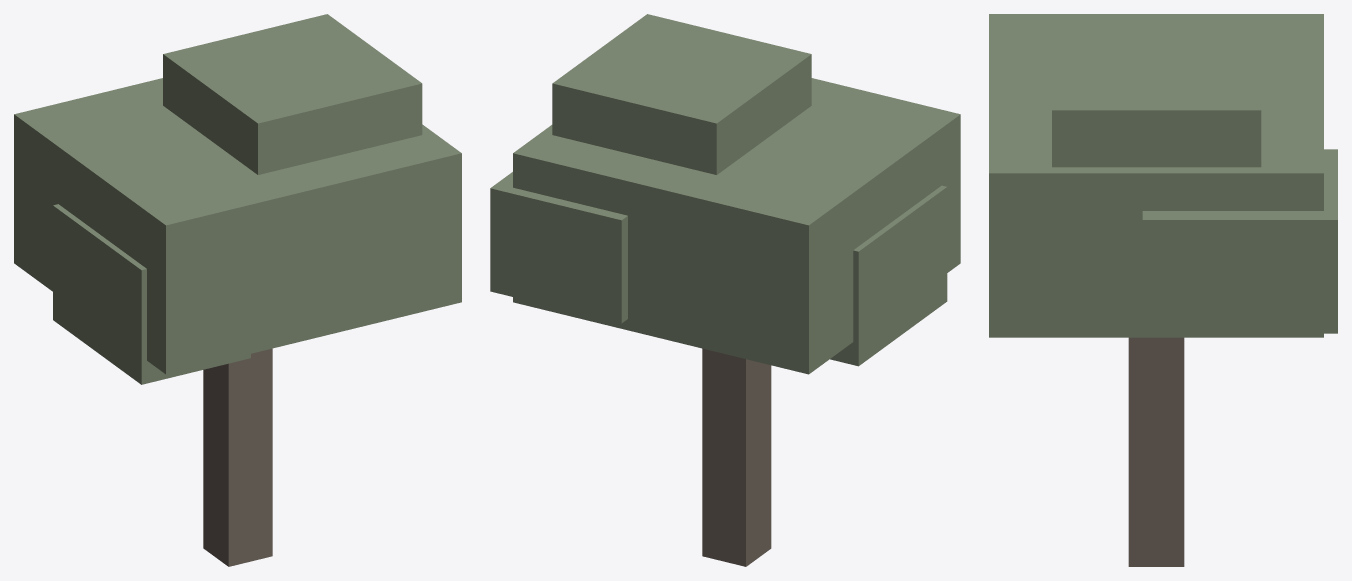
The model's file is tree_plane.glb.
3 views of the same model, side by side, from view 1: azimuth 30°, elevation 25°; view 2: azimuth 150°, elevation 25°; view 3: azimuth 270°, elevation 25° (orthographic). The views are drawn at different scales.
Visible parts, largest first — view 1: body; view 2: body; view 3: body.
Part boxes in pixels (x1,y1,x2,y2): body: [14, 14, 461, 566]; body: [490, 14, 960, 566]; body: [989, 14, 1337, 566].
Bounding box in the file's own units: 2.9 × 4.1 × 2.5.
